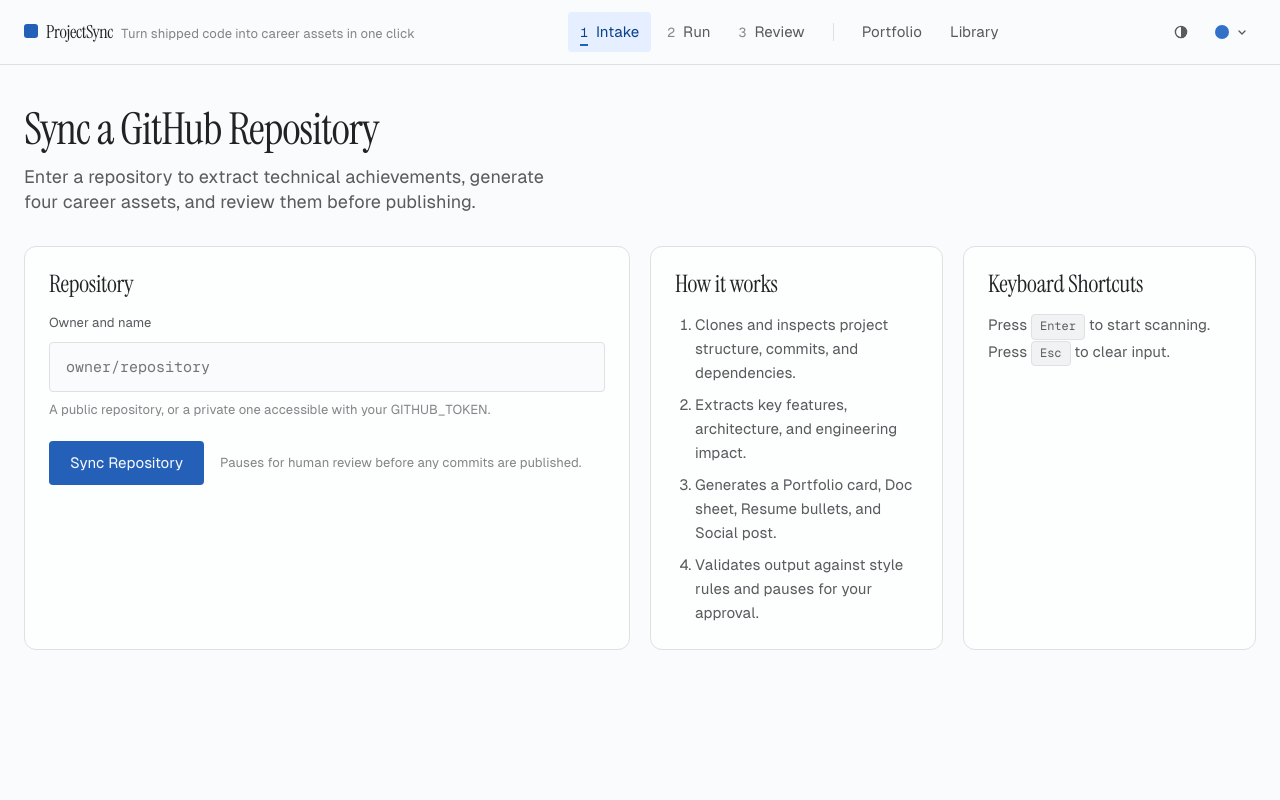
it: closes the accent menu with Esc and gives the focus back
Click the button named "Accent colour: Azure". click: click(1231, 32)
box: [1206, 15, 1256, 49]
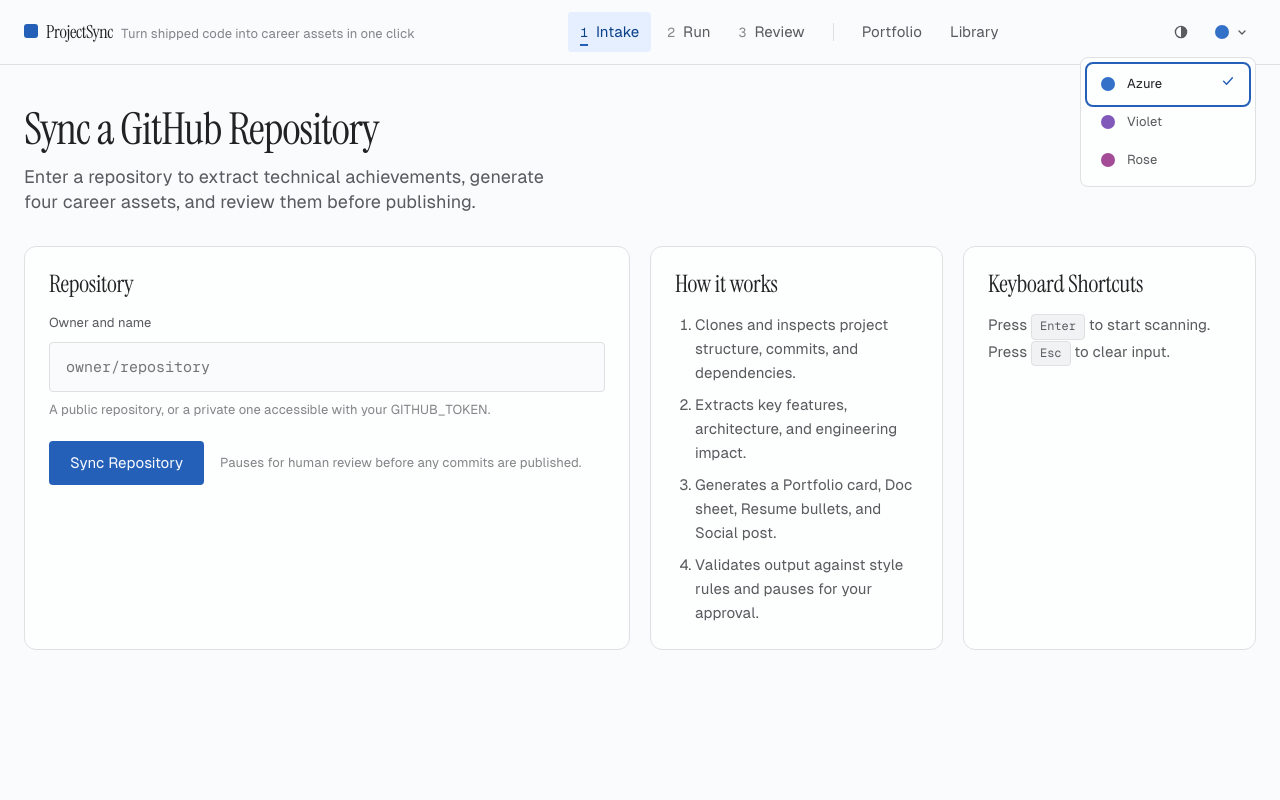
expect the menu is shown: met, box [1080, 57, 1256, 187]
Press Escape
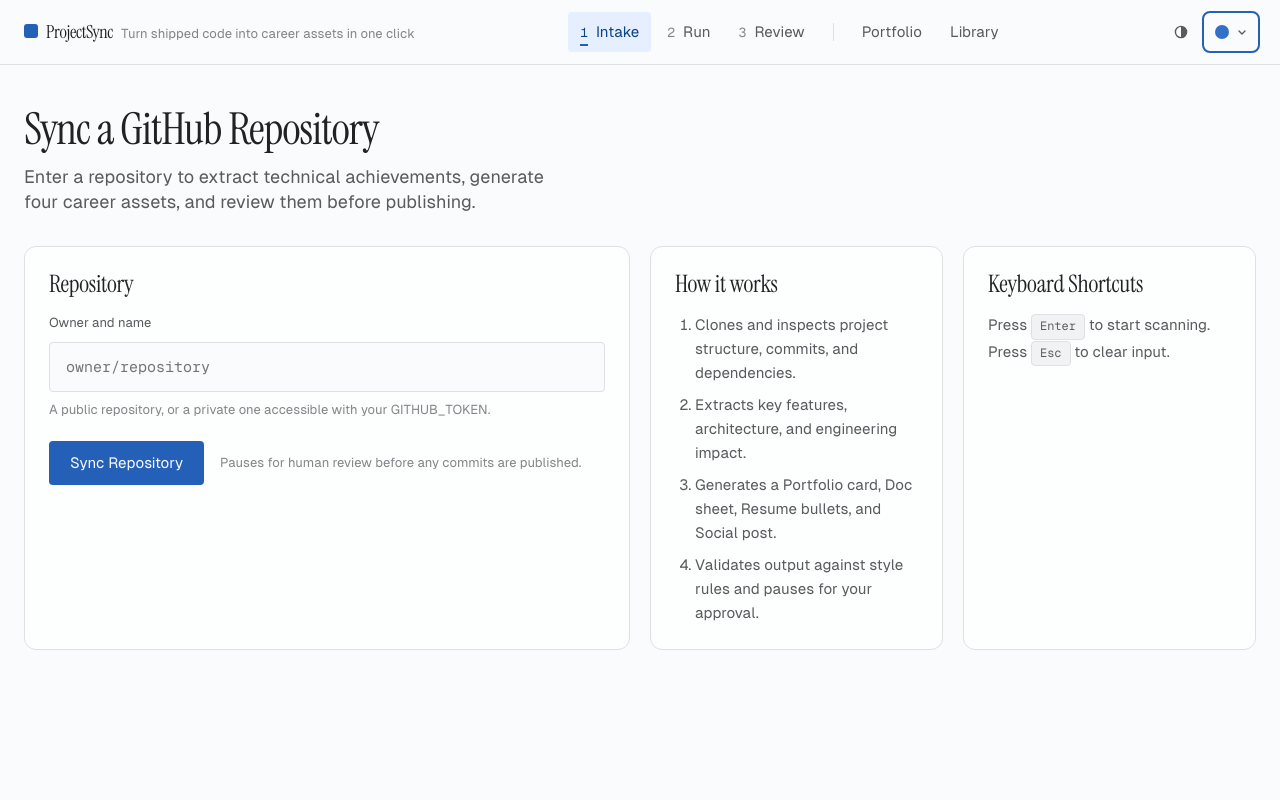
expect the menu is gone: met
